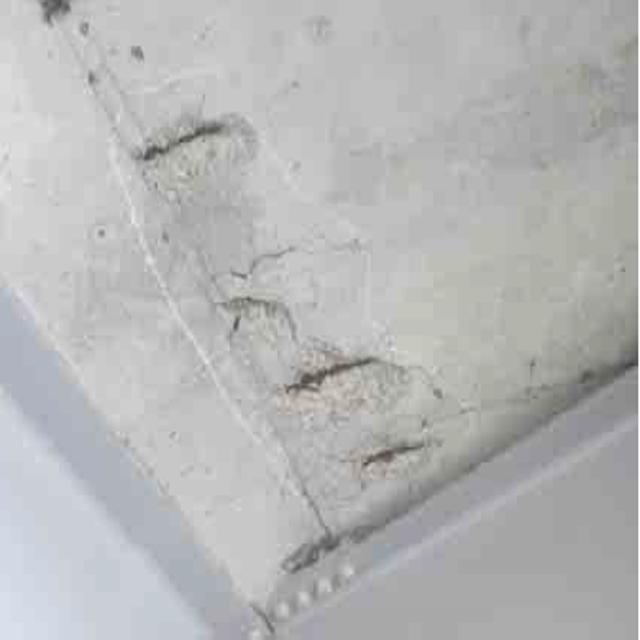spalling: (224, 277, 447, 516), (127, 83, 259, 191)
